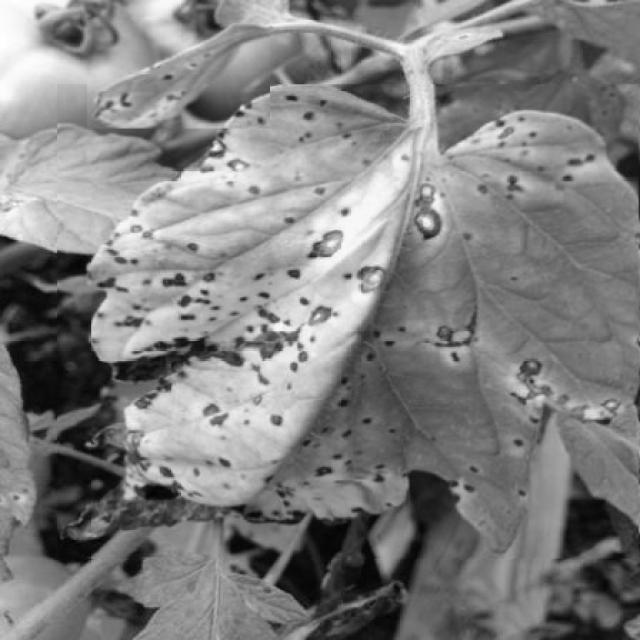Septoria: (57, 85, 639, 559), (88, 17, 271, 129)
